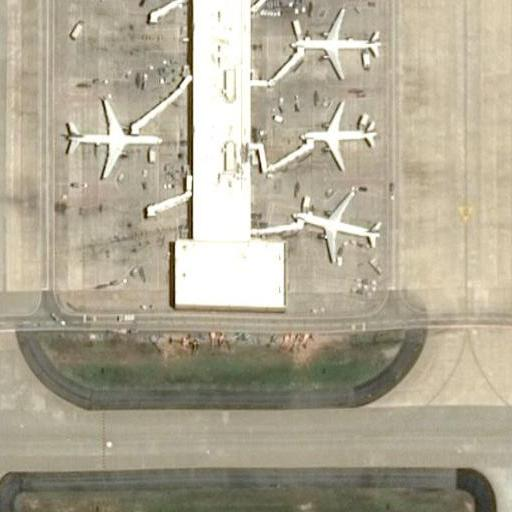Aircraft: (62, 93, 166, 179), (288, 4, 380, 77), (288, 188, 379, 260), (295, 100, 379, 172)
